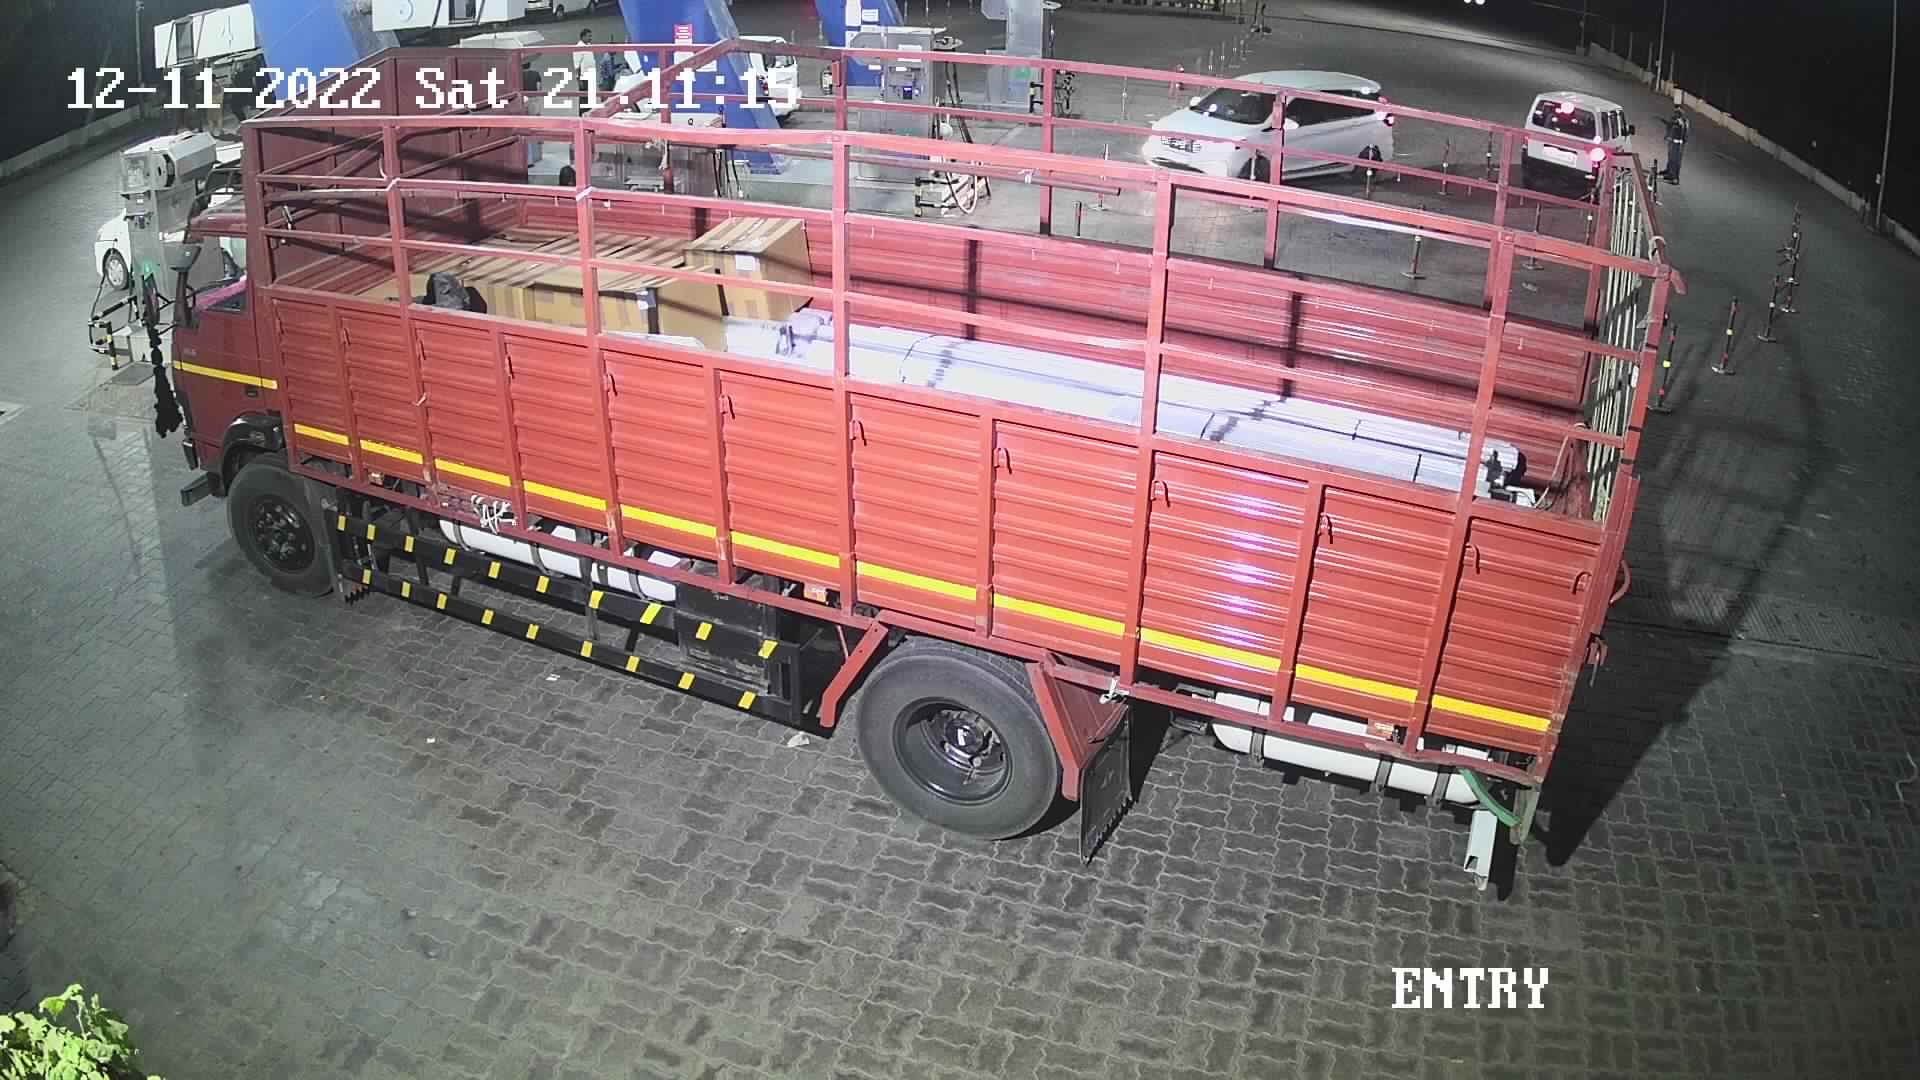Car: (1125, 53, 1410, 202), (1490, 73, 1667, 200)
HMV: (55, 25, 1837, 868)
